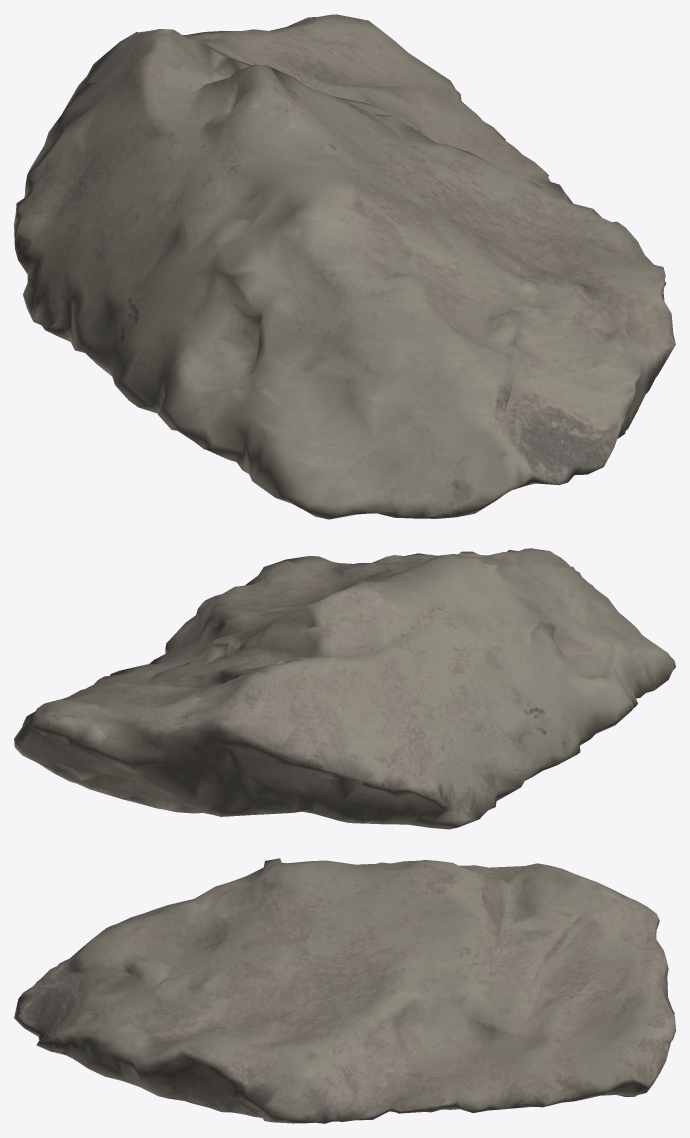
The model's file is moon_rock_04.glb.
3 views of the same model, one above another, from view 1: azimuth 30°, elevation 25°; view 2: azimuth 150°, elevation 25°; view 3: azimuth 270°, elevation 25° (orthographic). The views are drawn at different scales.
Visible parts, largest first — view 1: moon_rock_04_LOD0; view 2: moon_rock_04_LOD0; view 3: moon_rock_04_LOD0.
Part boxes in pixels (x1=…): moon_rock_04_LOD0: x1=14, y1=14, x2=675, y2=519; moon_rock_04_LOD0: x1=14, y1=548, x2=675, y2=829; moon_rock_04_LOD0: x1=14, y1=858, x2=675, y2=1123.
Size of the model in its own units: 0.1198 by 0.0538 by 0.1738.
1 material, 1 textured.
